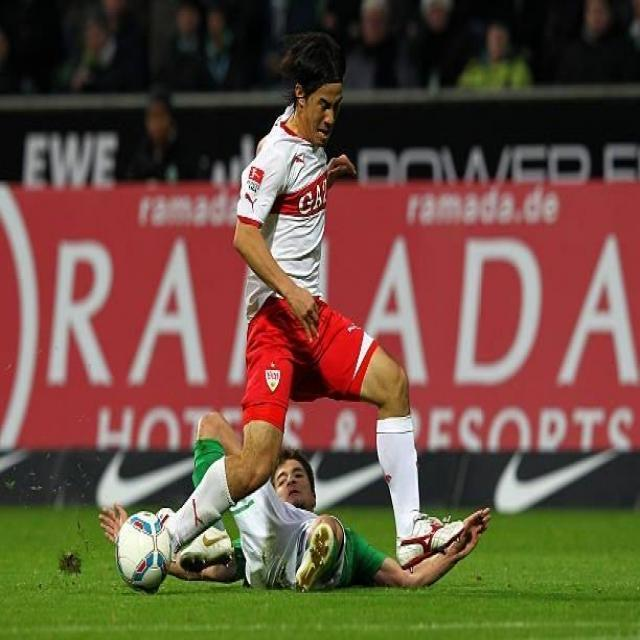ball: (113, 510, 177, 604)
player: (176, 73, 480, 568), (175, 413, 464, 601)
